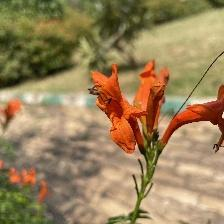honeysuckle: (85, 66, 148, 146)
